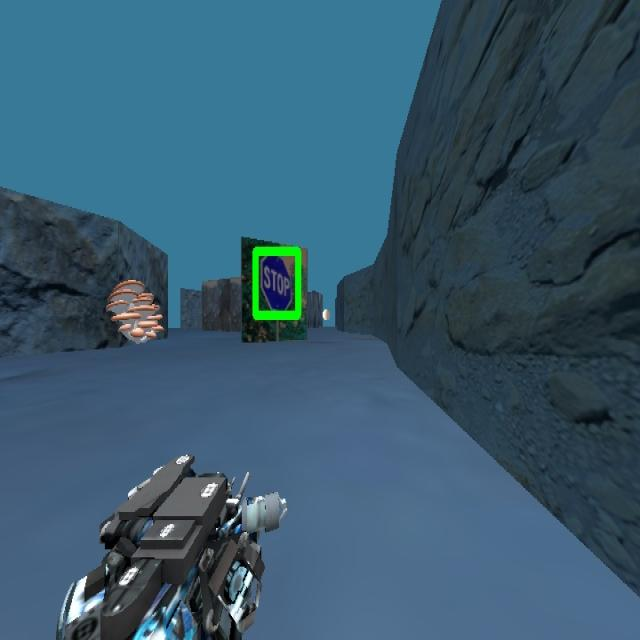Circle: (322, 304, 334, 336)
Diamon: (251, 244, 302, 321)
Mushroom: (105, 277, 163, 344)
